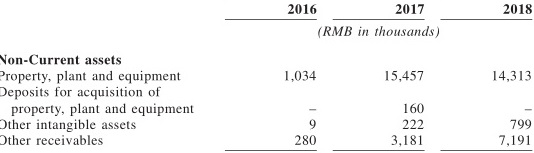column: (1, 1, 193, 153), (318, 1, 440, 153), (492, 1, 532, 153), (284, 1, 317, 153)
row: (1, 70, 534, 84), (1, 86, 534, 100), (1, 25, 534, 38), (1, 118, 534, 131), (1, 3, 534, 15), (1, 134, 533, 146), (1, 103, 531, 115), (1, 54, 533, 64)
